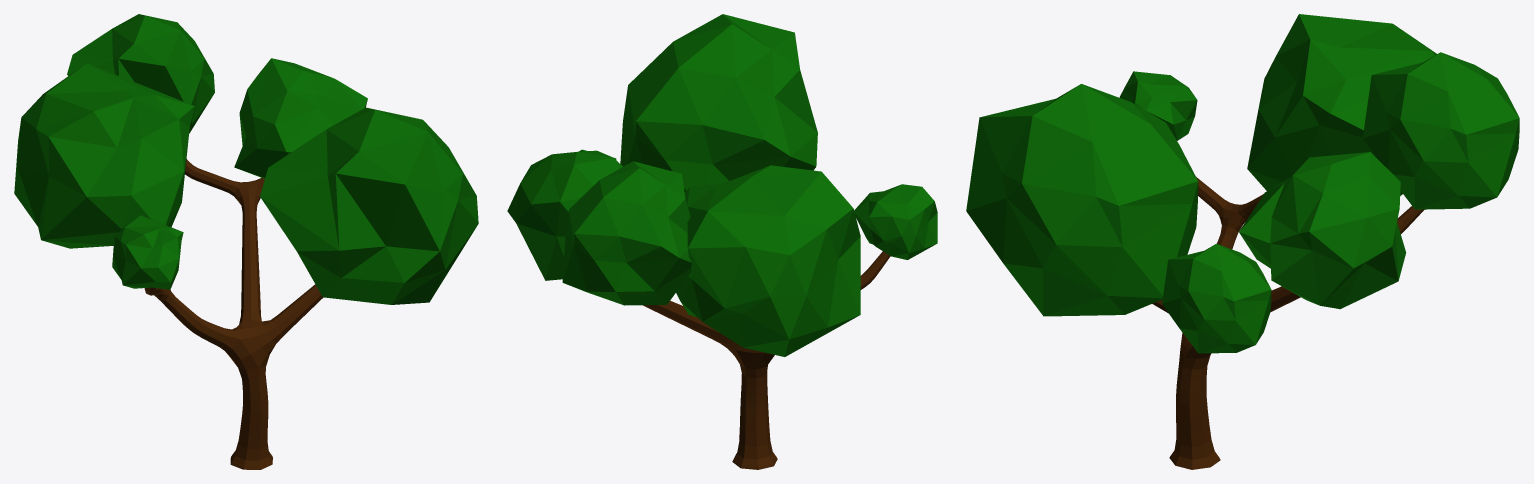
The model's file is arvore.fbx.
3 renders of one model, left to right at view 1: azimuth 30°, elevation 25°; view 2: azimuth 150°, elevation 25°; view 3: azimuth 270°, elevation 25°, orthographic. The views are drawn at different scales.
Parts seen in each view (by area): view 1: Arvore; view 2: Arvore; view 3: Arvore.
Part boxes in pixels (left/top/right/bottom): Arvore: left=14, top=14, right=478, bottom=469; Arvore: left=507, top=14, right=937, bottom=469; Arvore: left=966, top=14, right=1519, bottom=469.
Size of the model in its own units: 614 by 615 by 742.
